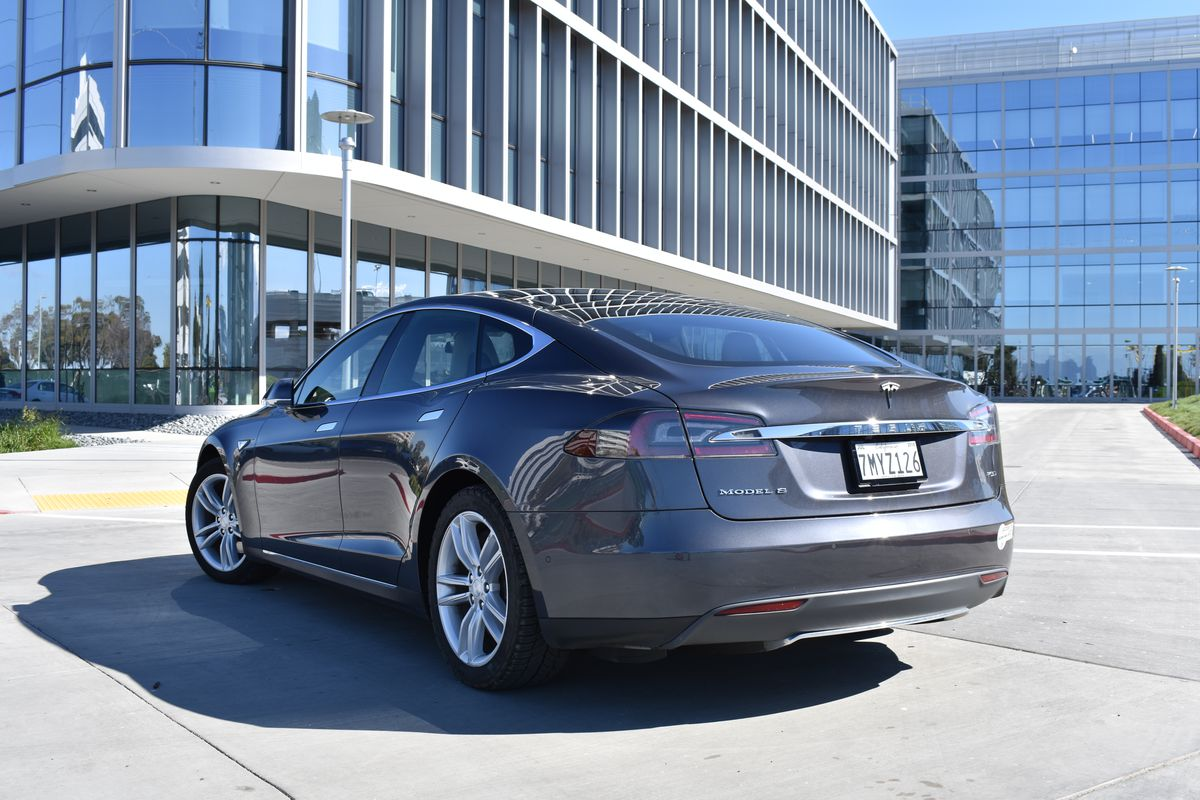license plate: (850, 431, 928, 487)
